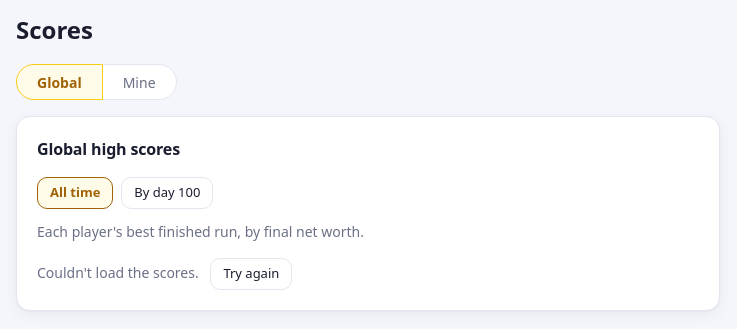
Test: ScoresComponent › global board › shows an error with a retry
Expected: the message "Couldn't load the scores. Try again" is shown, x1=37 y1=258 x2=292 y2=290
Click the button with class "retry" at [251, 274], box x1=210 y1=258 x2=292 y2=290
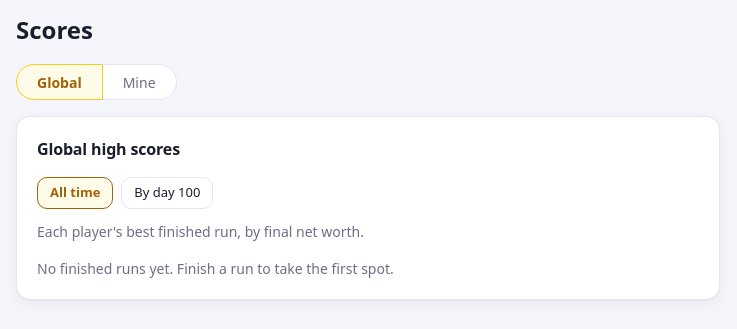
Now the message "Couldn't load the scores. Try again" is gone
